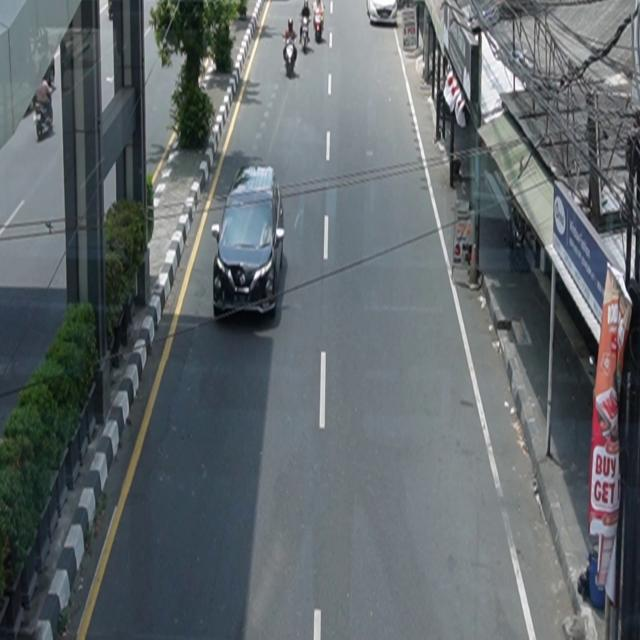car: (212, 165, 286, 321), (367, 1, 398, 26)
